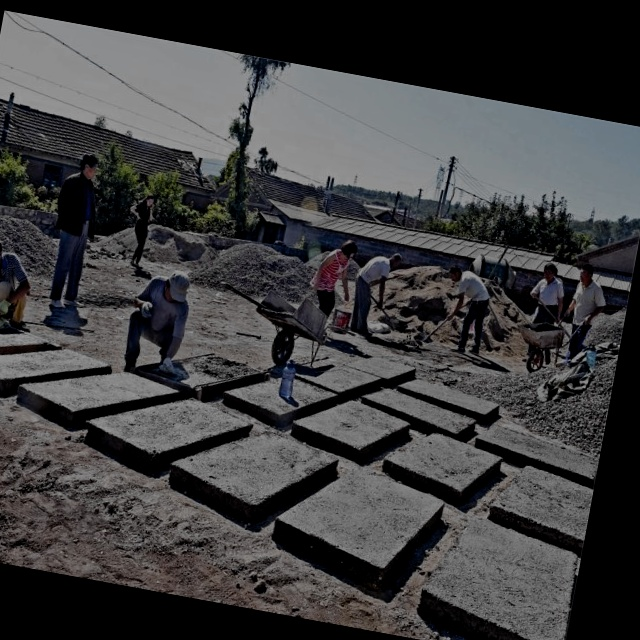Sin_Casco_Mascarrilla: (78, 153, 104, 181), (339, 237, 359, 261), (578, 262, 595, 288), (447, 263, 463, 285)
